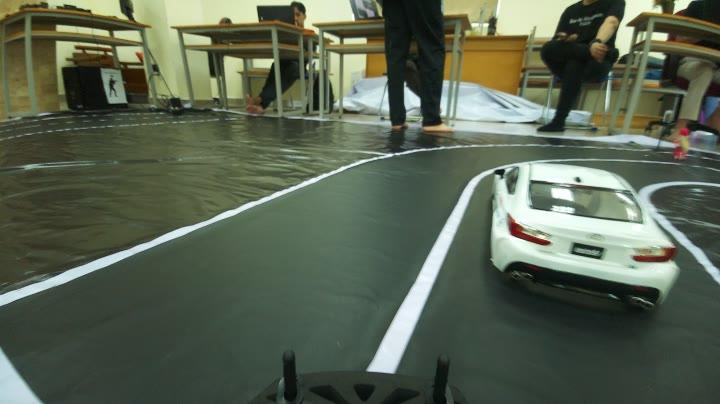car: (494, 149, 687, 325)
